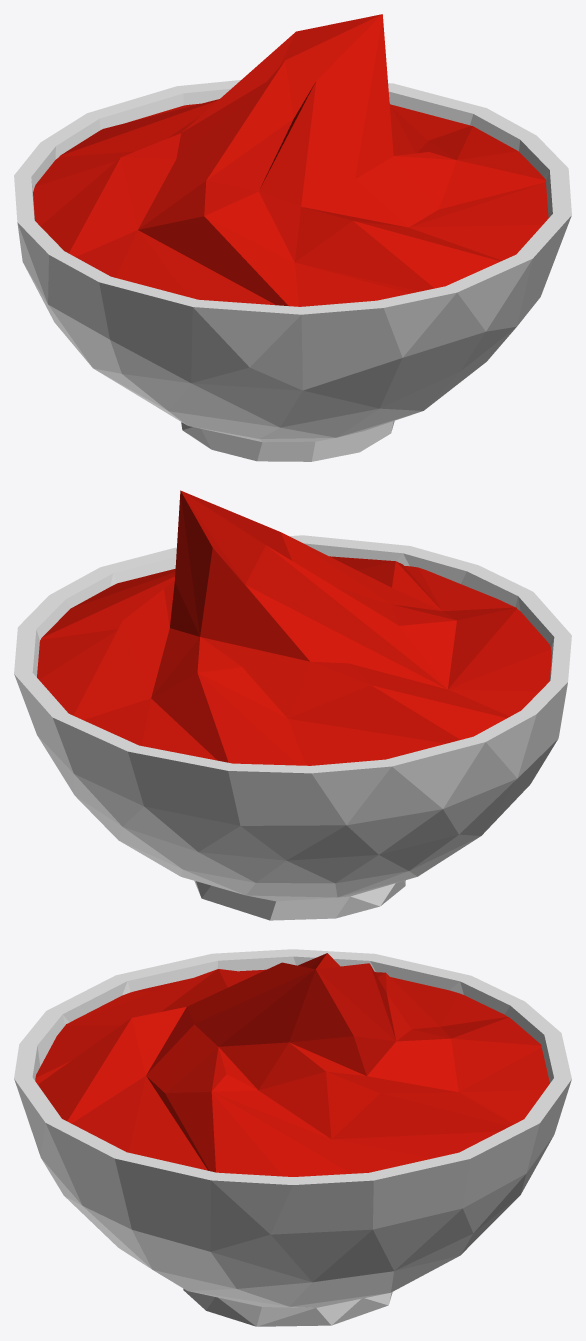
File: Mustard.fbx
3 views of the same model, one above another, from view 1: azimuth 30°, elevation 25°; view 2: azimuth 150°, elevation 25°; view 3: azimuth 270°, elevation 25° (orthographic).
Visible parts, largest first — view 1: Sauce, SauceContainer; view 2: Sauce, SauceContainer; view 3: Sauce, SauceContainer.
Part boxes in pixels (x1,y1,x2,y2): Sauce: (33, 14, 548, 306); SauceContainer: (14, 80, 571, 461); Sauce: (37, 490, 551, 765); SauceContainer: (14, 535, 571, 920); Sauce: (35, 953, 549, 1176); SauceContainer: (14, 949, 571, 1326).
Bounding box in the file's own units: 213 × 153 × 213.
